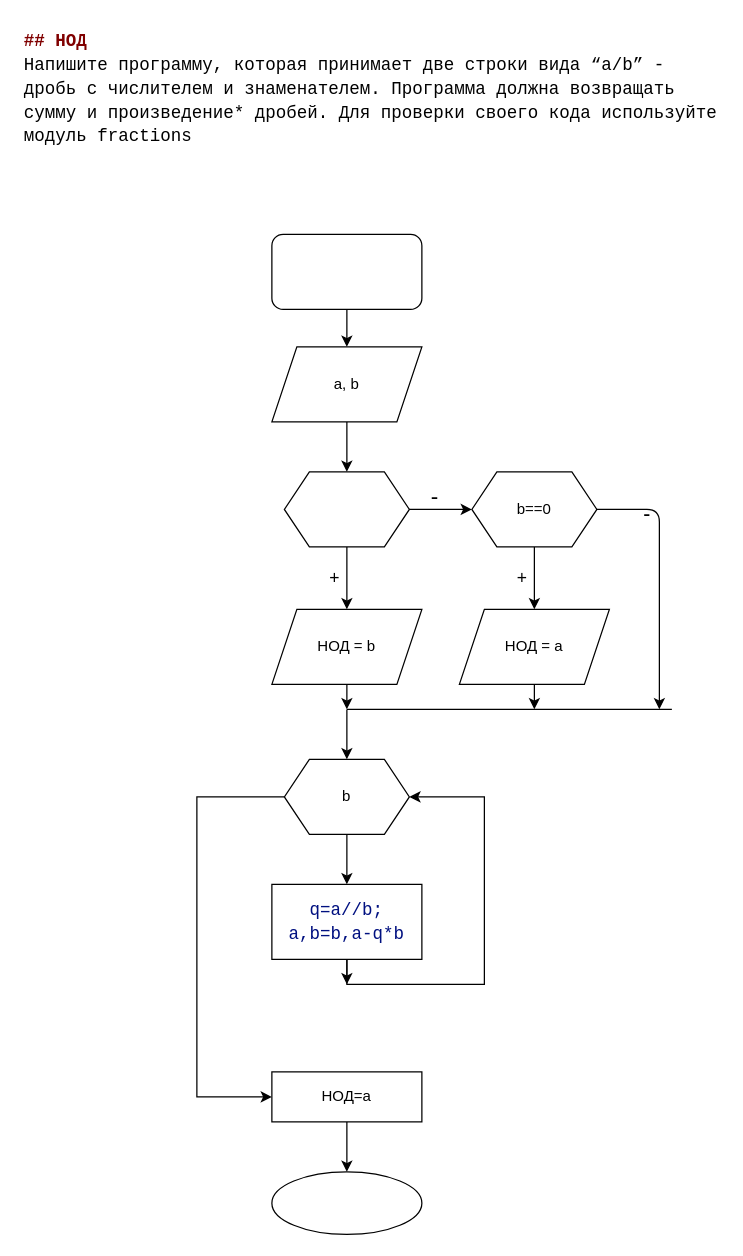
The diagram is 743 pixels wide and 1256 high, and some of its shapes have lost their labels. Here are the shapes that lost their labels. From the top down, the centre of each, then its label:
At (346,271): "Начало".
At (346,509): "a==0".
At (346,1202): "конец".
